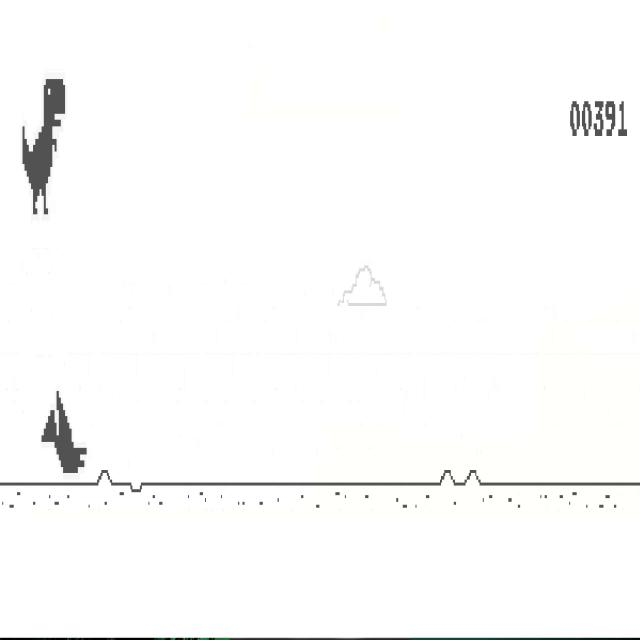dino: (22, 78, 65, 216)
ptero: (41, 389, 87, 474)
